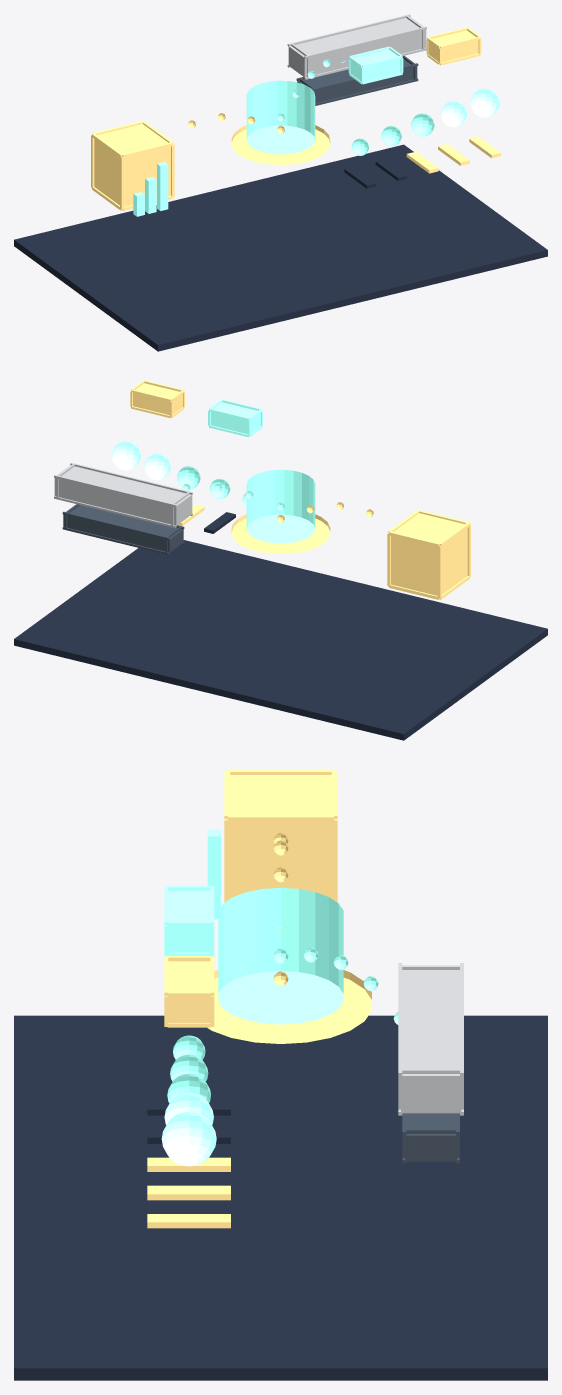
The model's file is hpa-autoscaling.glb.
3 views of the same model, one above another, from view 1: azimuth 30°, elevation 25°; view 2: azimuth 150°, elevation 25°; view 3: azimuth 270°, elevation 25° (orthographic). The views are drawn at different scales.
Parts seen in each view (by area): view 1: hpa-floor, metrics-server, deployment, hpa-controller, replicaset, hpa-halo, current-replicas, desired-replicas, replica-4, cpu-bar-2, replica-3, replica-2 (+1 smaller); view 2: hpa-floor, metrics-server, deployment, hpa-controller, replicaset, hpa-halo, desired-replicas, current-replicas, replica-4, replica-3; view 3: hpa-floor, hpa-controller, metrics-server, deployment, hpa-halo, desired-replicas, current-replicas, replicaset, replica-4, scale-rail-3, scale-rail-4, cpu-bar-2 (+3 smaller).
Part boxes in pixels (left/top/right/bottom): hpa-floor: left=14, top=144, right=547, bottom=351; metrics-server: left=91, top=121, right=174, bottom=210; deployment: left=287, top=14, right=426, bottom=79; hpa-controller: left=246, top=80, right=315, bottom=154; replicaset: left=296, top=55, right=418, bottom=105; hpa-halo: left=231, top=125, right=330, bottom=164; current-replicas: left=348, top=46, right=403, bottom=84; desired-replicas: left=426, top=27, right=481, bottom=65; replica-4: left=470, top=88, right=499, bottom=117; cpu-bar-2: left=157, top=162, right=168, bottom=210; replica-3: left=440, top=101, right=467, bottom=127; replica-2: left=411, top=113, right=434, bottom=136; hpa-floor: left=14, top=540, right=547, bottom=740; metrics-server: left=387, top=510, right=470, bottom=599; deployment: left=54, top=462, right=192, bottom=528; hpa-controller: left=246, top=469, right=315, bottom=543; replicaset: left=62, top=504, right=184, bottom=555; hpa-halo: left=231, top=514, right=330, bottom=553; desired-replicas: left=130, top=380, right=184, bottom=418; current-replicas: left=208, top=399, right=262, bottom=437; replica-4: left=111, top=441, right=141, bottom=470; replica-3: left=144, top=453, right=170, bottom=480; hpa-floor: left=14, top=1015, right=547, bottom=1380; hpa-controller: left=218, top=887, right=343, bottom=1024; metrics-server: left=224, top=769, right=337, bottom=902; deployment: left=398, top=963, right=463, bottom=1115; hpa-halo: left=207, top=970, right=371, bottom=1043; desired-replicas: left=164, top=956, right=214, bottom=1027; current-replicas: left=164, top=885, right=214, bottom=956; replicaset: left=402, top=1113, right=459, bottom=1163; replica-4: left=161, top=1111, right=216, bottom=1166; scale-rail-3: left=147, top=1185, right=230, bottom=1200; scale-rail-4: left=147, top=1214, right=230, bottom=1228; cpu-bar-2: left=207, top=829, right=220, bottom=919.
Size of what is drawn, in the model's own units: 5 by 2.4 by 3.2.
